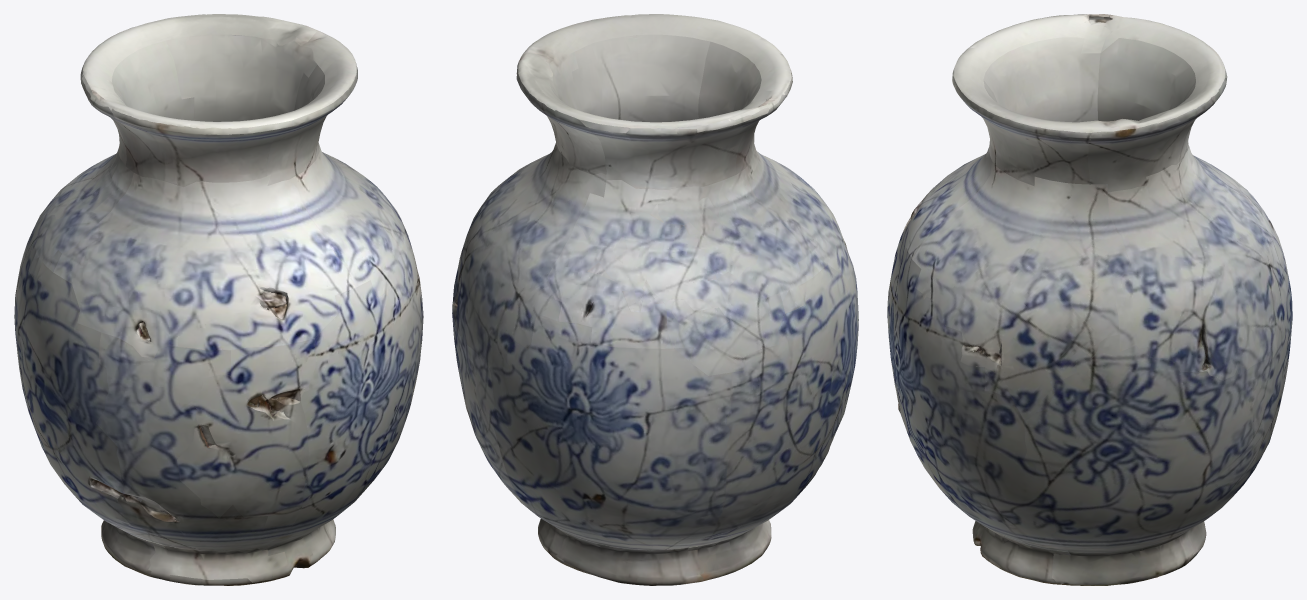
Rendered from cracked-vase.glb.
3 views of the same model, side by side, from view 1: azimuth 30°, elevation 25°; view 2: azimuth 150°, elevation 25°; view 3: azimuth 270°, elevation 25° (orthographic).
Visible parts, largest first — view 1: geometry_0; view 2: geometry_0; view 3: geometry_0.
Part boxes in pixels (x1,y1,x2,y2): geometry_0: (14,14,423,585); geometry_0: (452,14,858,585); geometry_0: (887,14,1292,585).
Size of the model in its own units: 0.1262 by 0.16 by 0.125.
1 material, 1 textured.
